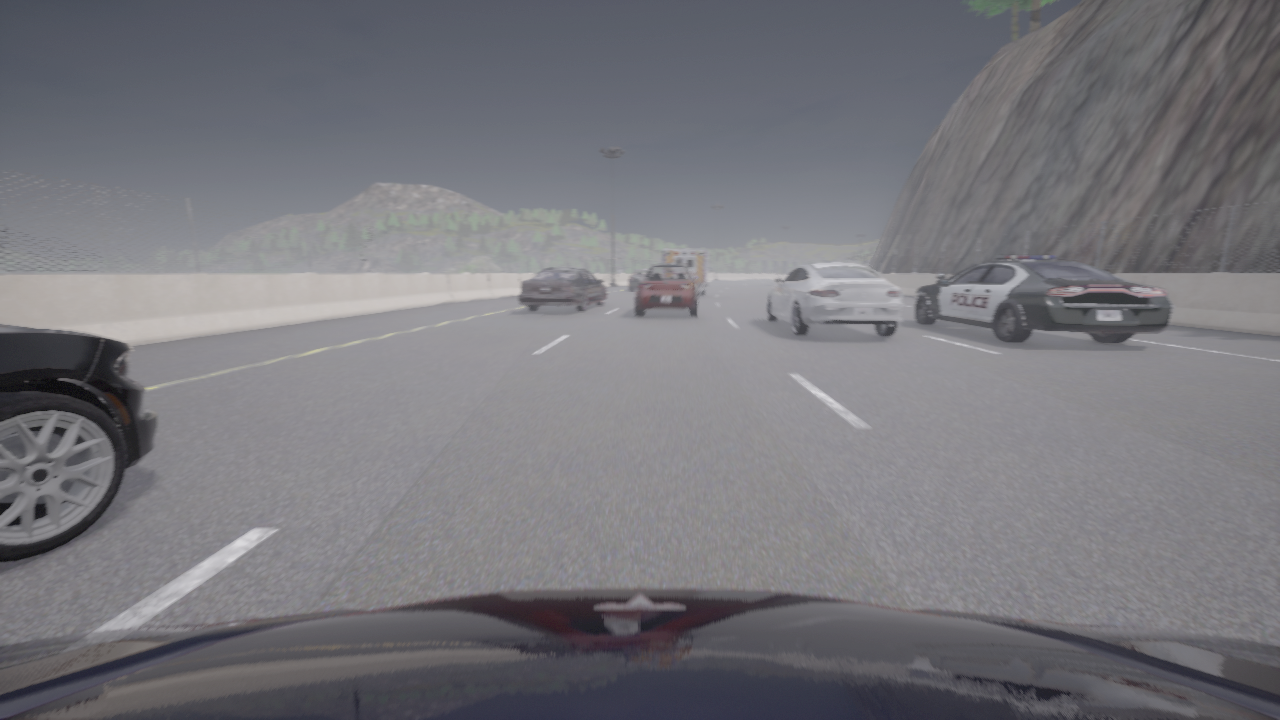cyclist: (0, 588, 1279, 719), (914, 256, 1173, 343), (766, 261, 902, 336), (519, 267, 606, 311), (635, 264, 698, 316), (663, 249, 712, 294), (629, 269, 647, 290)
